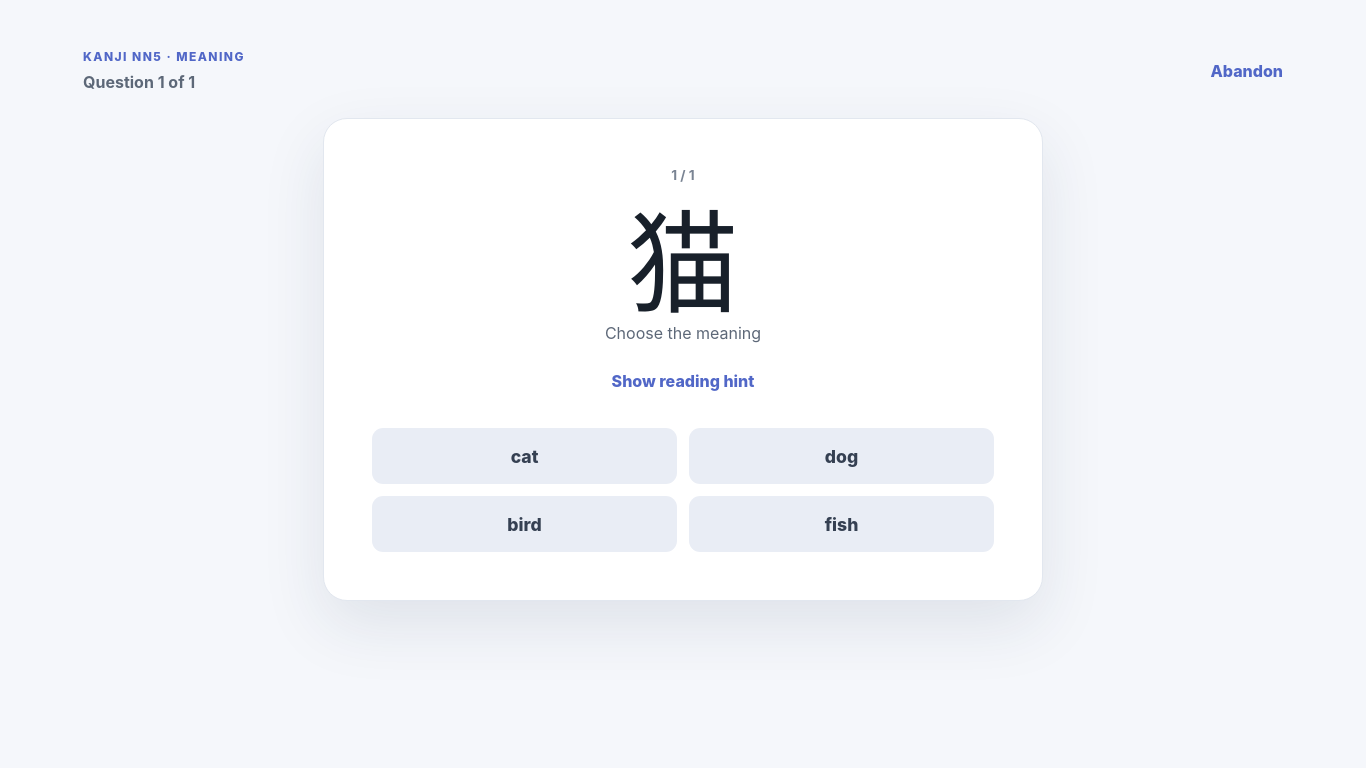
Test case: TestView › shows the meaning hint during the question and accepts a multiple-choice answer
Expected: the text "ねこ" is not shown
Expected: the text "Correct!" is not shown
Click the button "Show reading hint": (683, 381) [612, 359, 754, 404]
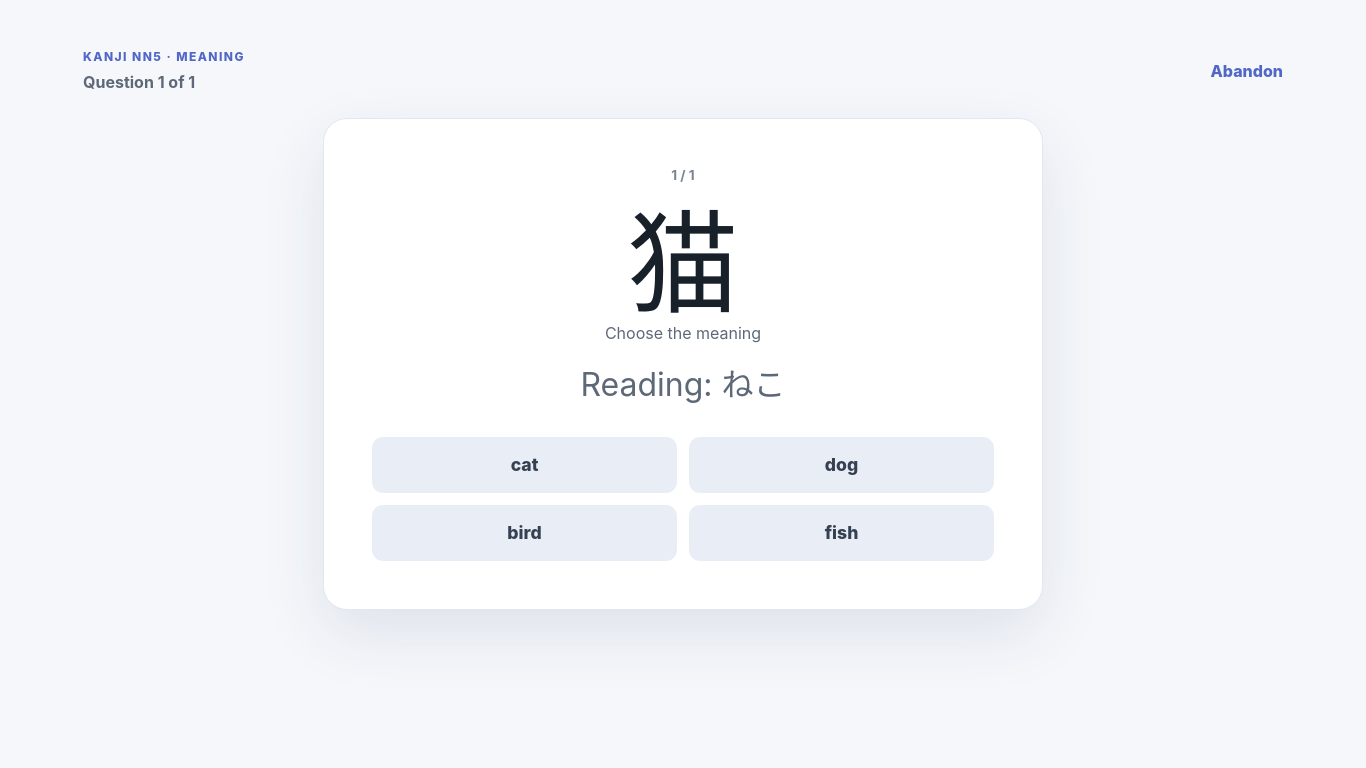
Result: the text "Reading: ねこ" is shown at [580, 365, 786, 404]
Click the button with class "kanji-answer-option" showing "cat": (524, 465) [372, 437, 677, 493]
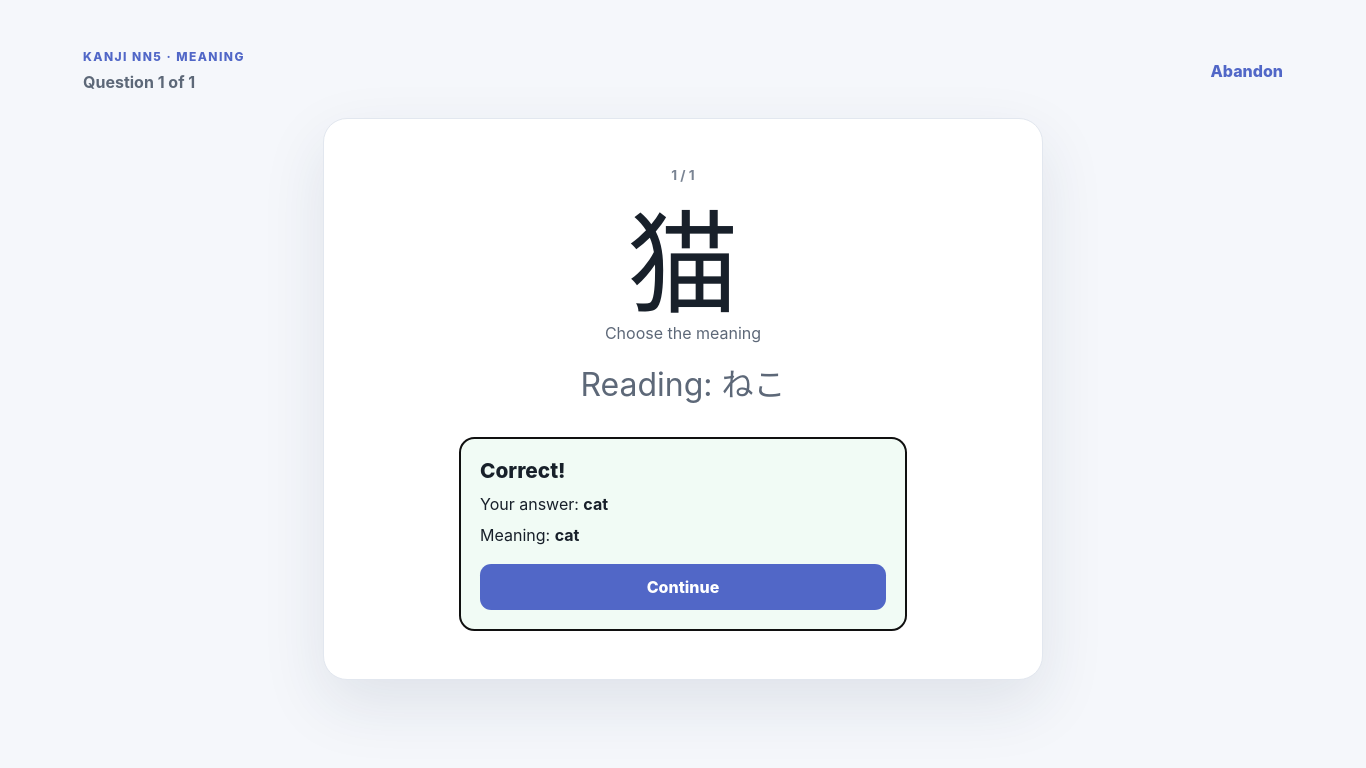
Expected: the text "cat" is shown, [583, 494, 608, 514]
Result: the text "Correct!" is shown at [480, 458, 566, 483]
Result: the text "Meaning:" is shown at [480, 525, 555, 545]
